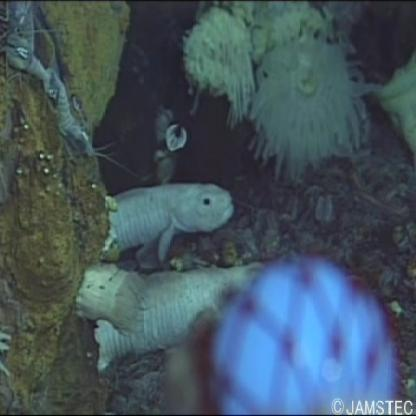Bio: (68, 180, 268, 377), (1, 1, 116, 170)
